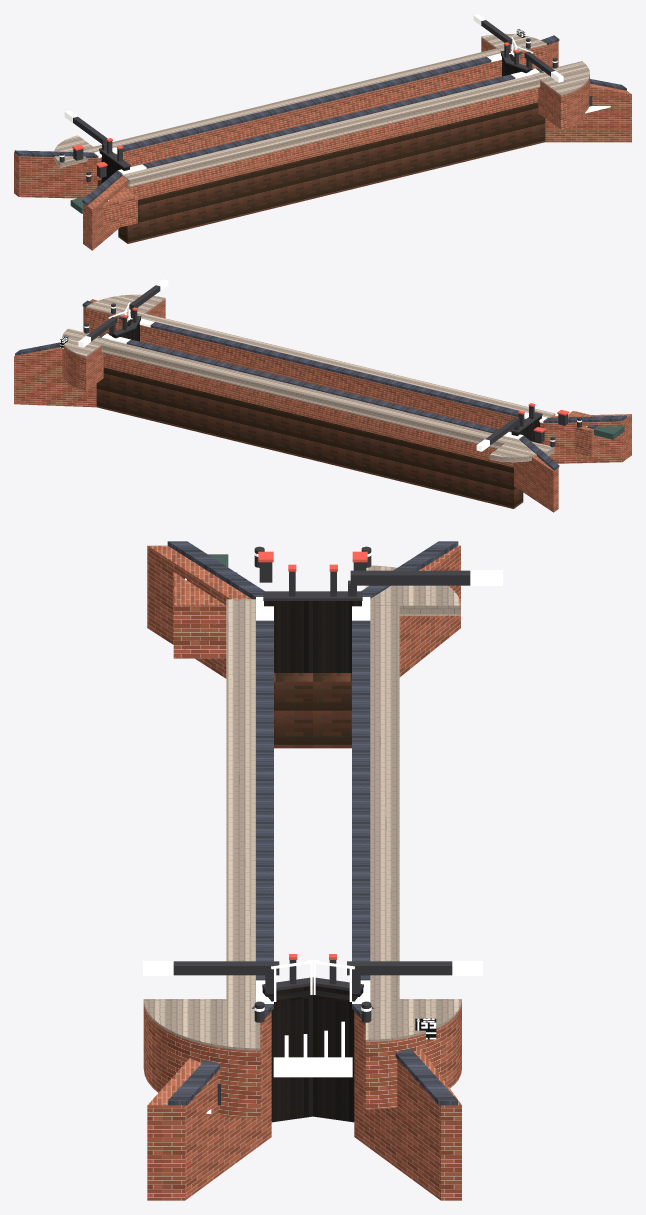
Rendered from lock-55.glb.
3 renders of one model, top to bottom at view 1: azimuth 30°, elevation 25°; view 2: azimuth 150°, elevation 25°; view 3: azimuth 270°, elevation 25°, orthographic. The views are drawn at different scales.
Visible parts, largest first — view 1: Chamber, ChamberWet, Edge, Coping.001, TopGateCap, Coping, TopGate; view 2: Chamber, ChamberWet, Edge, Coping.001, TopGateCap, Coping, TopGate; view 3: Chamber, Edge, Coping.001, TopGate, TopGateCap, ChamberWet, Coping, Leak.
Part boxes in pixels (bbox=[...]): Chamber: bbox=[14, 38, 631, 250]; ChamberWet: bbox=[97, 102, 545, 243]; Edge: bbox=[54, 33, 589, 187]; Coping.001: bbox=[14, 35, 626, 205]; TopGateCap: bbox=[59, 20, 592, 182]; Coping: bbox=[59, 14, 563, 176]; TopGate: bbox=[99, 54, 533, 183]; Chamber: bbox=[14, 299, 631, 512]; ChamberWet: bbox=[96, 367, 523, 508]; Edge: bbox=[62, 294, 555, 462]; Coping.001: bbox=[15, 300, 626, 470]; TopGateCap: bbox=[84, 285, 581, 447]; Coping: bbox=[78, 279, 581, 451]; TopGate: bbox=[109, 318, 541, 443]; Chamber: bbox=[143, 545, 461, 1200]; Edge: bbox=[143, 565, 461, 1050]; Coping.001: bbox=[167, 541, 458, 1105]; TopGate: bbox=[262, 601, 363, 1122]; TopGateCap: bbox=[173, 546, 470, 1105]; ChamberWet: bbox=[274, 673, 351, 748]; Coping: bbox=[143, 552, 502, 1011]; Leak: bbox=[185, 578, 352, 1113].
Size of the model in its own units: 33.21 by 4.98 by 9.57.
11 materials, 8 textured.
